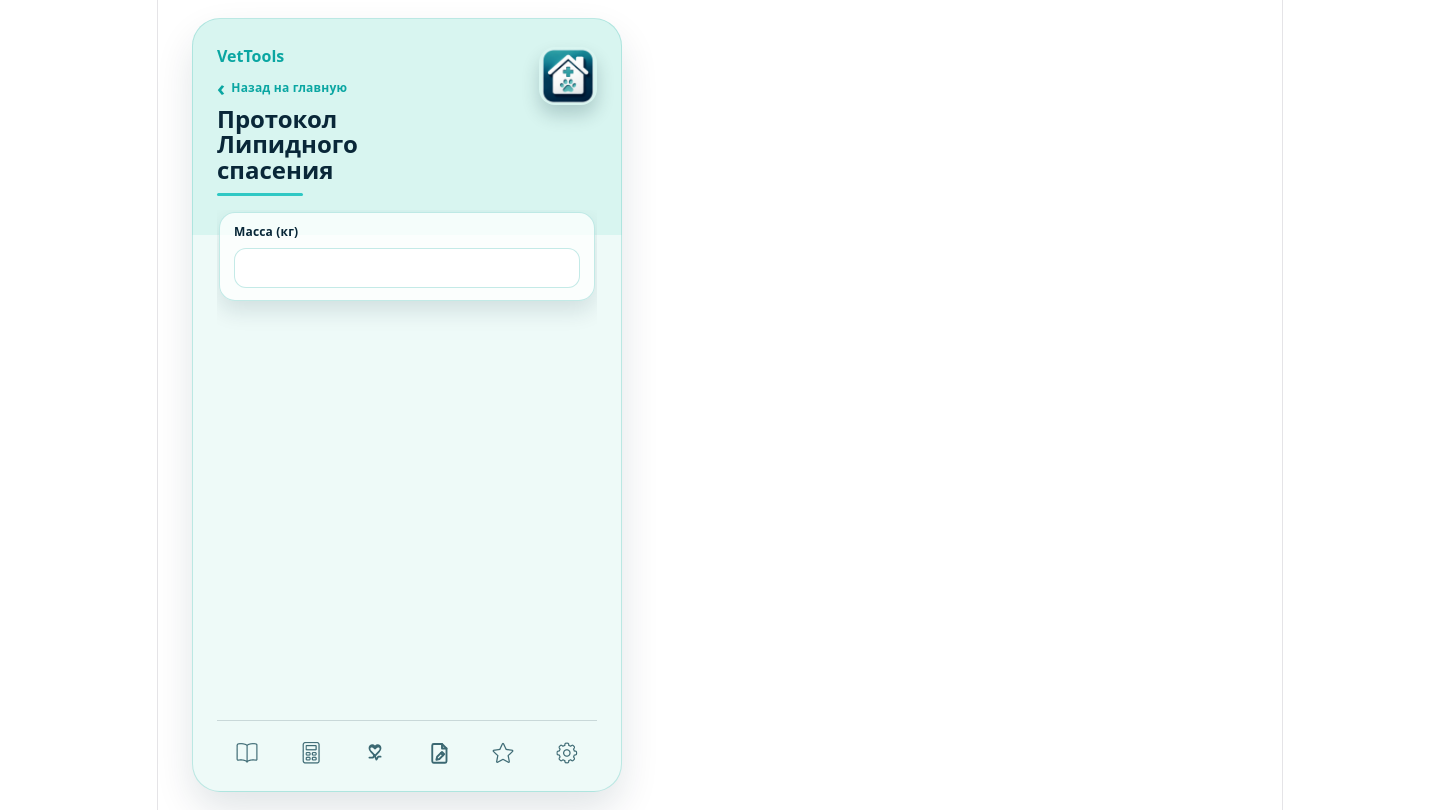
Scenario: LipidSavePage › renders the lipid rescue protocol values from patient weight
Type "10" into the number field labelled "Масса (кг)" at (407, 268), box [234,248,580,288]
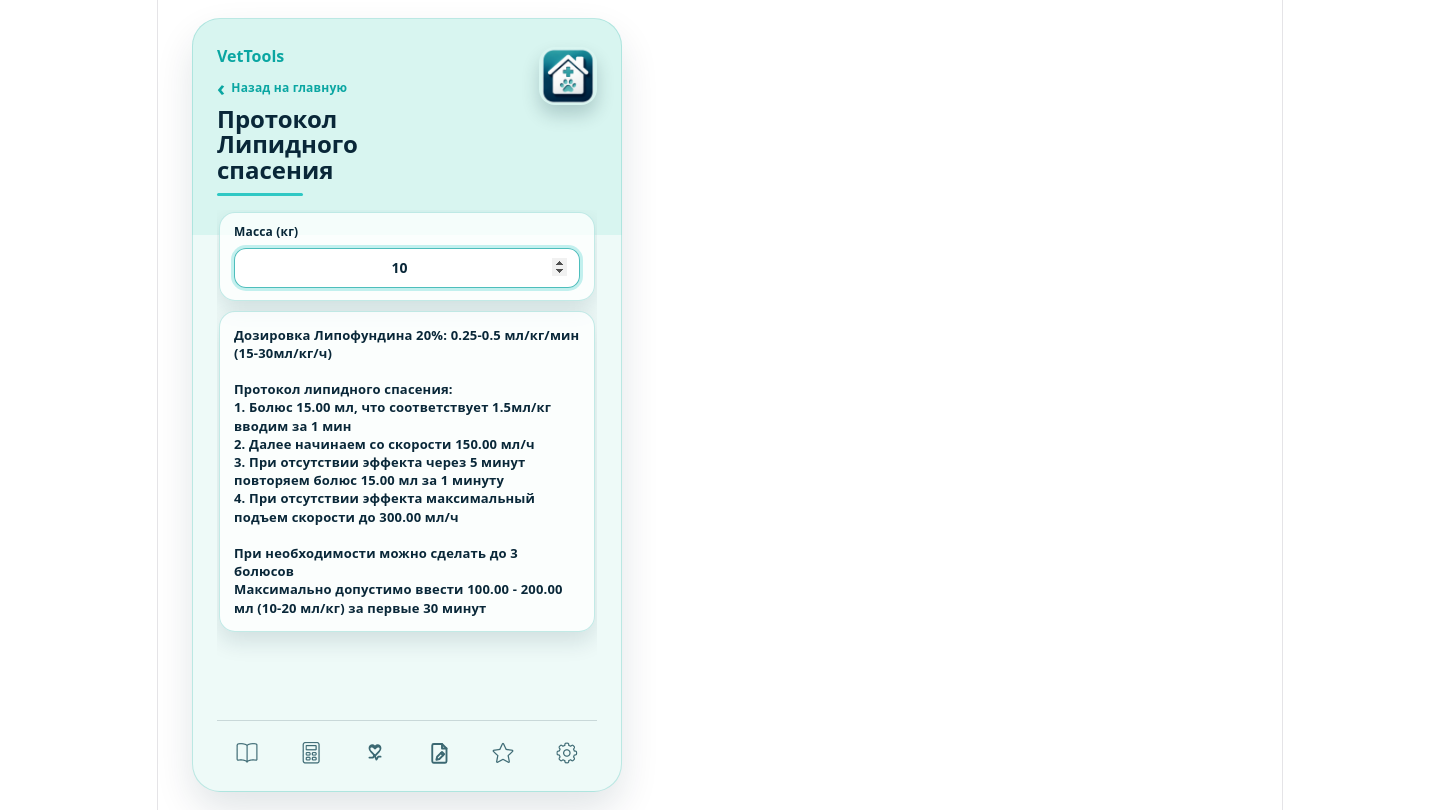
Check: the text "100.00 - 200.00 мл" is shown, box [234,326,579,616]
